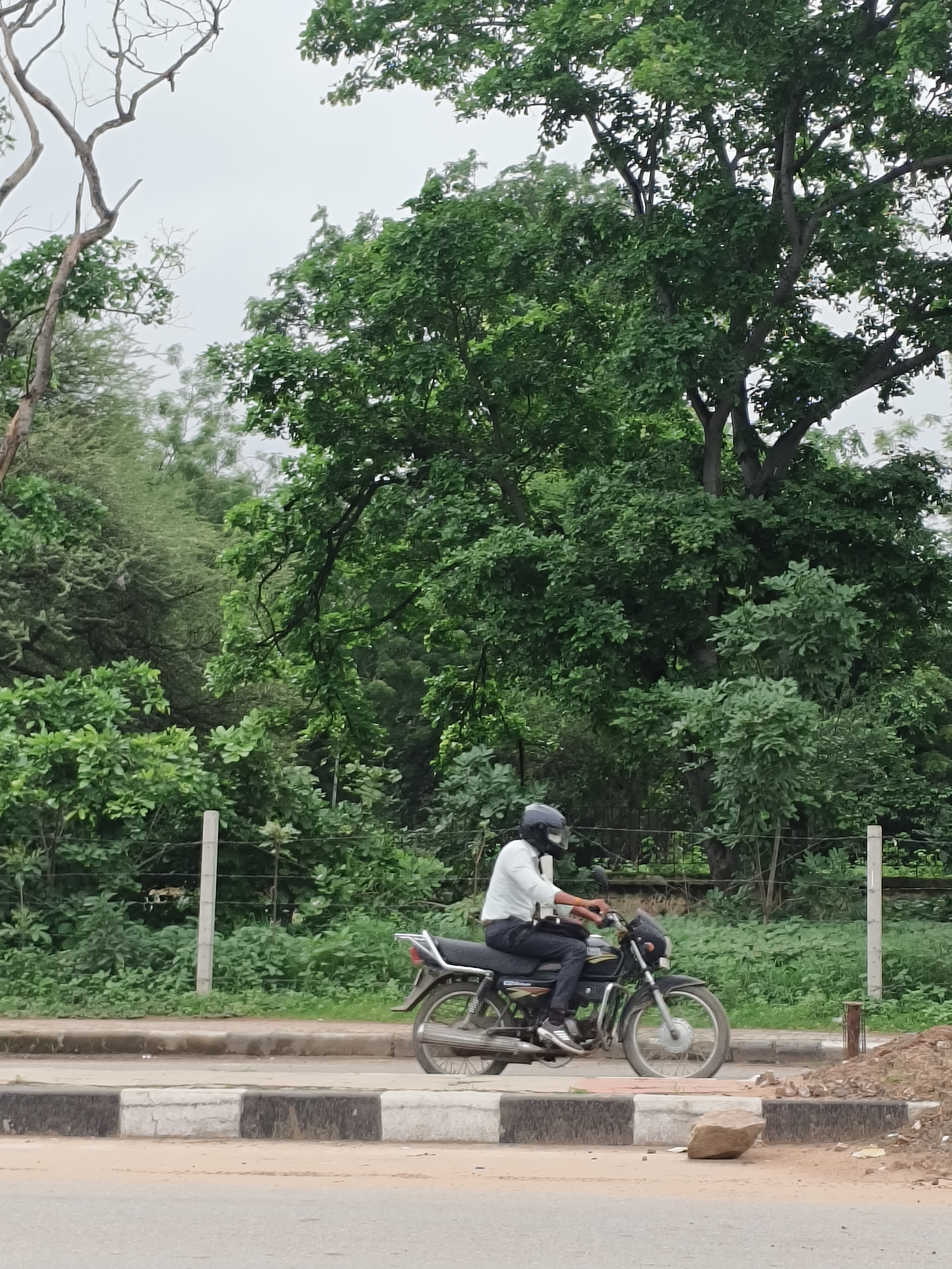BikeWithRider: (382, 795, 744, 1089)
Helmet: (512, 796, 576, 859)
